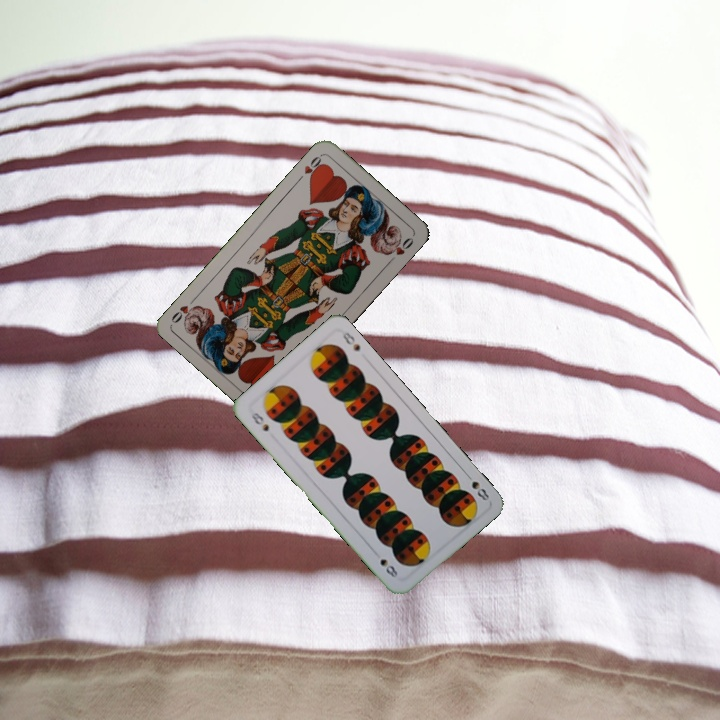HO: (293, 151, 326, 184)
S8: (461, 469, 492, 504), (246, 409, 272, 434)
